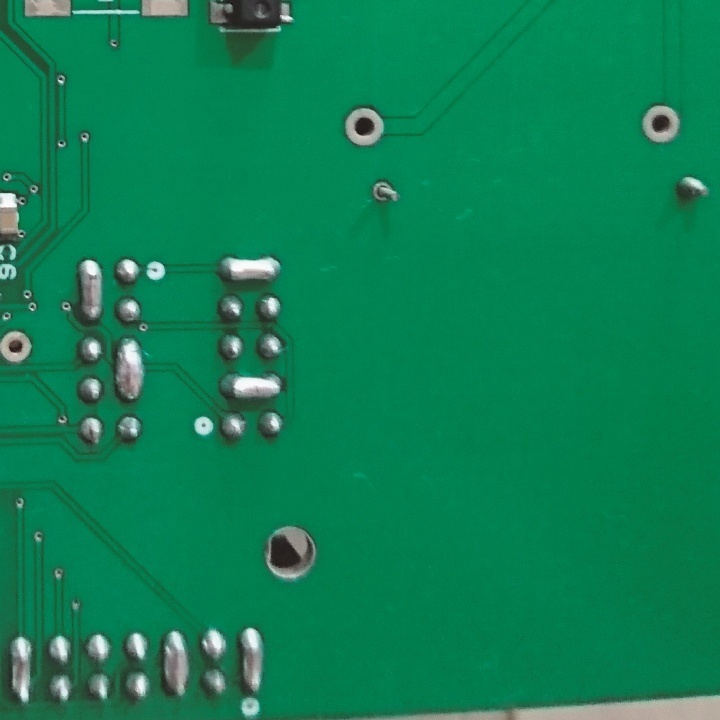F: (341, 106, 387, 149), (641, 101, 681, 146), (1, 329, 37, 366), (368, 178, 401, 211)
P: (112, 335, 147, 409), (5, 629, 36, 709), (214, 370, 291, 402), (216, 252, 286, 286), (159, 628, 190, 698), (75, 258, 106, 324), (234, 623, 261, 693)
